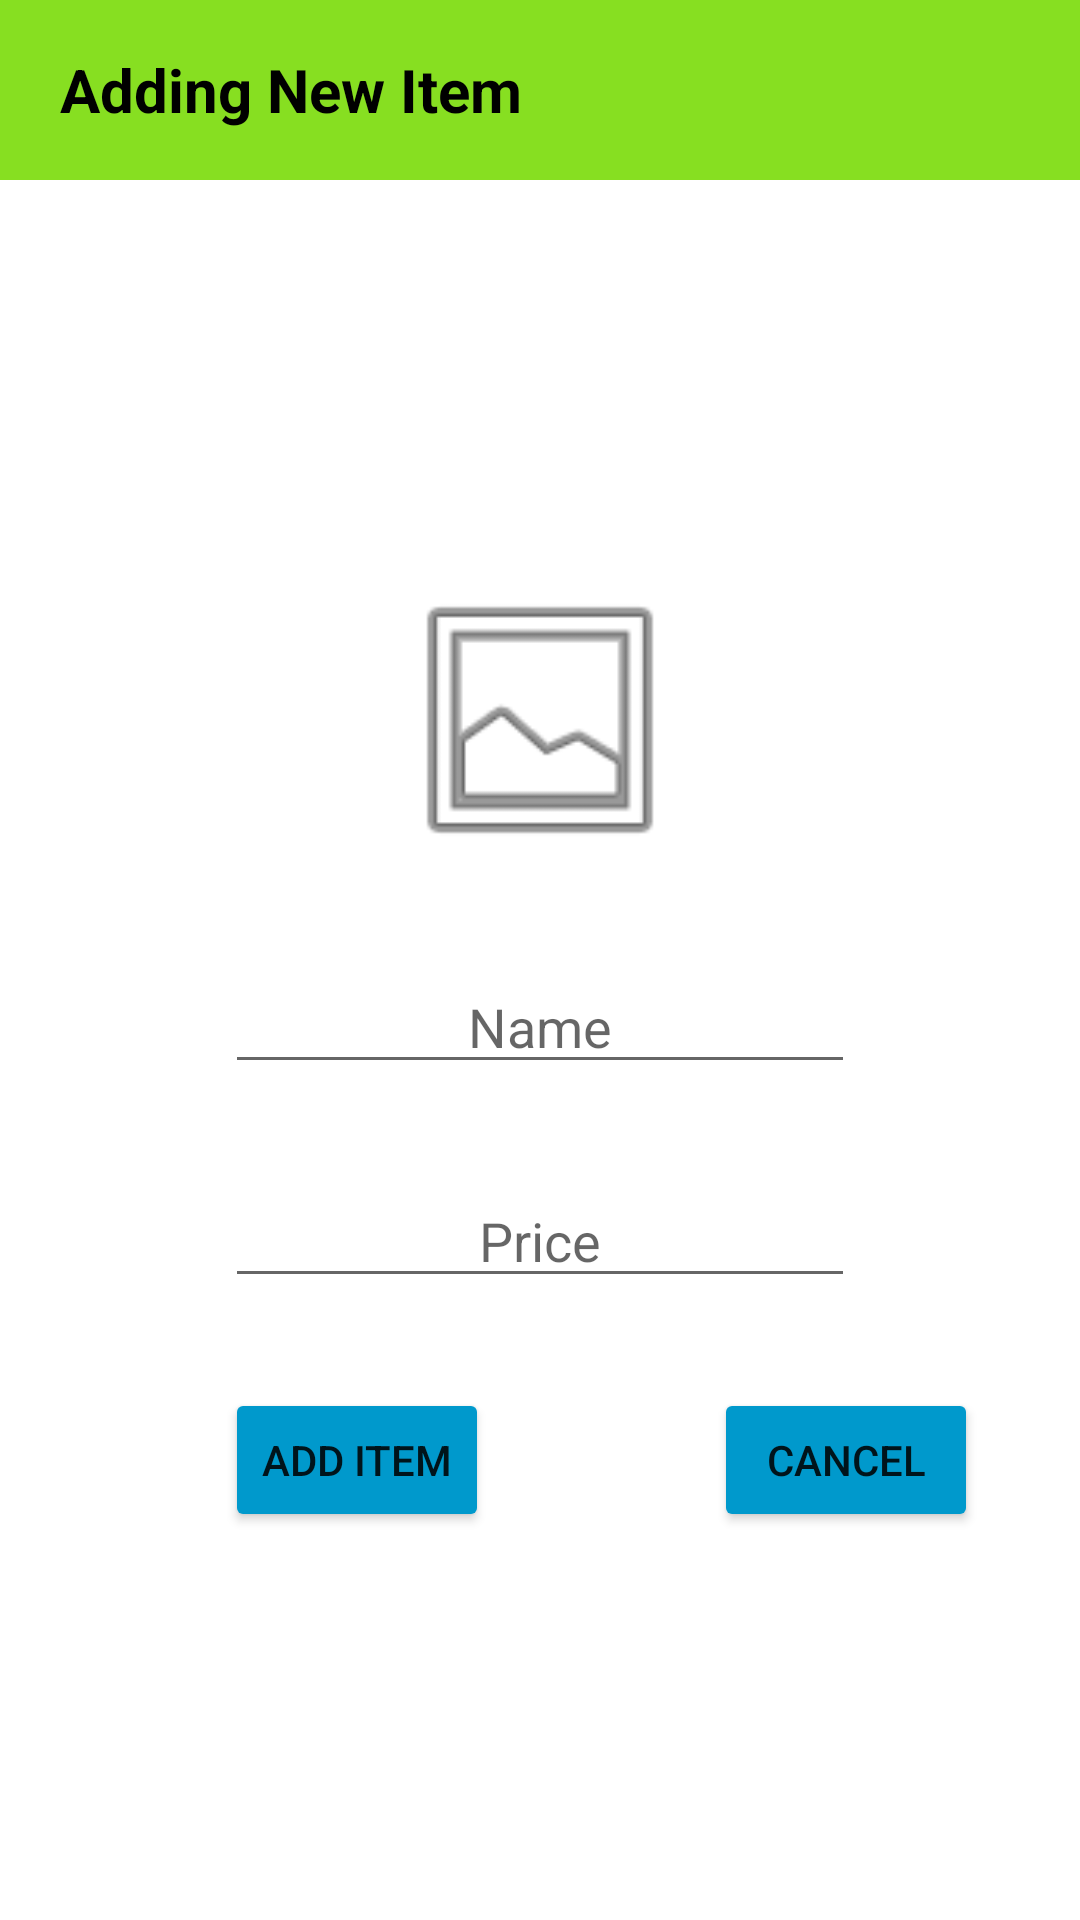

Icons on this 1080px×1920px Android screen, each with its box as [x1, y1, x2, y2]:
gallery: [427, 607, 653, 833]
